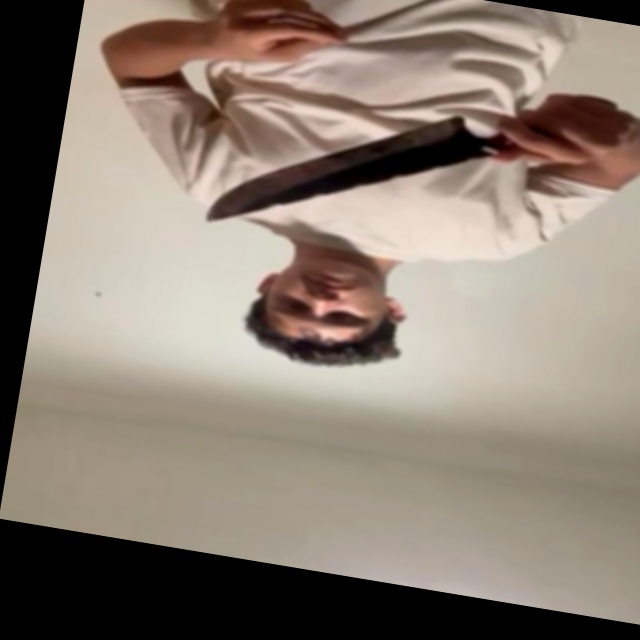Sharp-Object: (209, 84, 491, 265)
